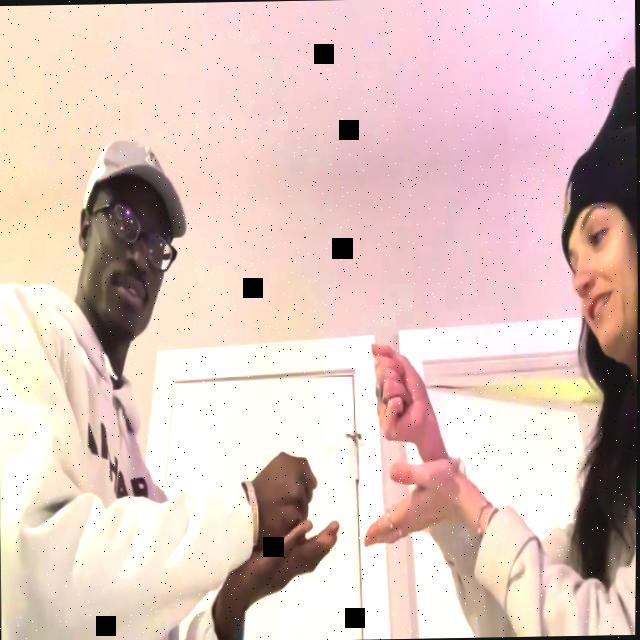Rock: (371, 342, 433, 448), (255, 448, 318, 544)
